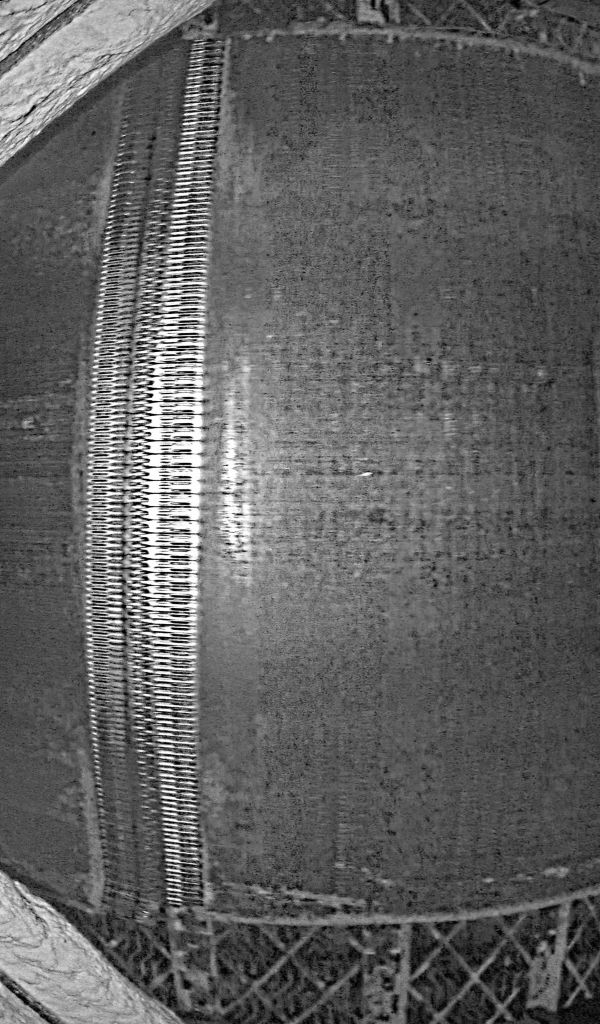splice: (73, 34, 232, 906)
